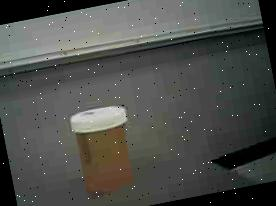Bottle B: (53, 92, 156, 206)
